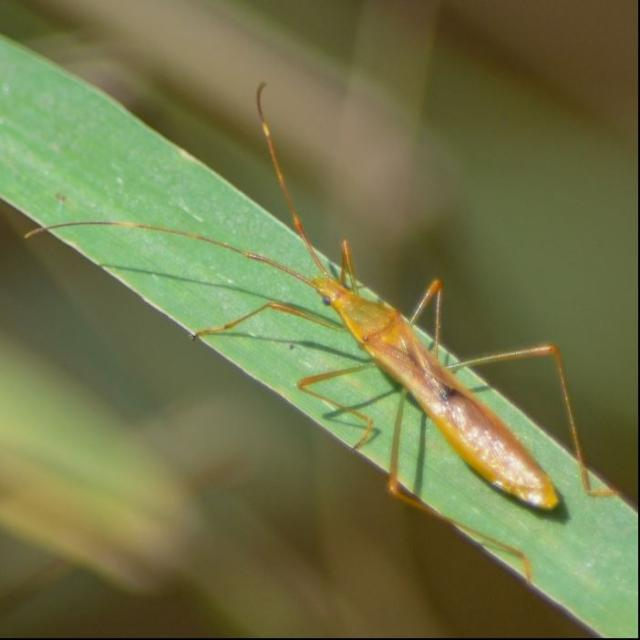walang sangit pada tanaman padi: (27, 74, 619, 564)
